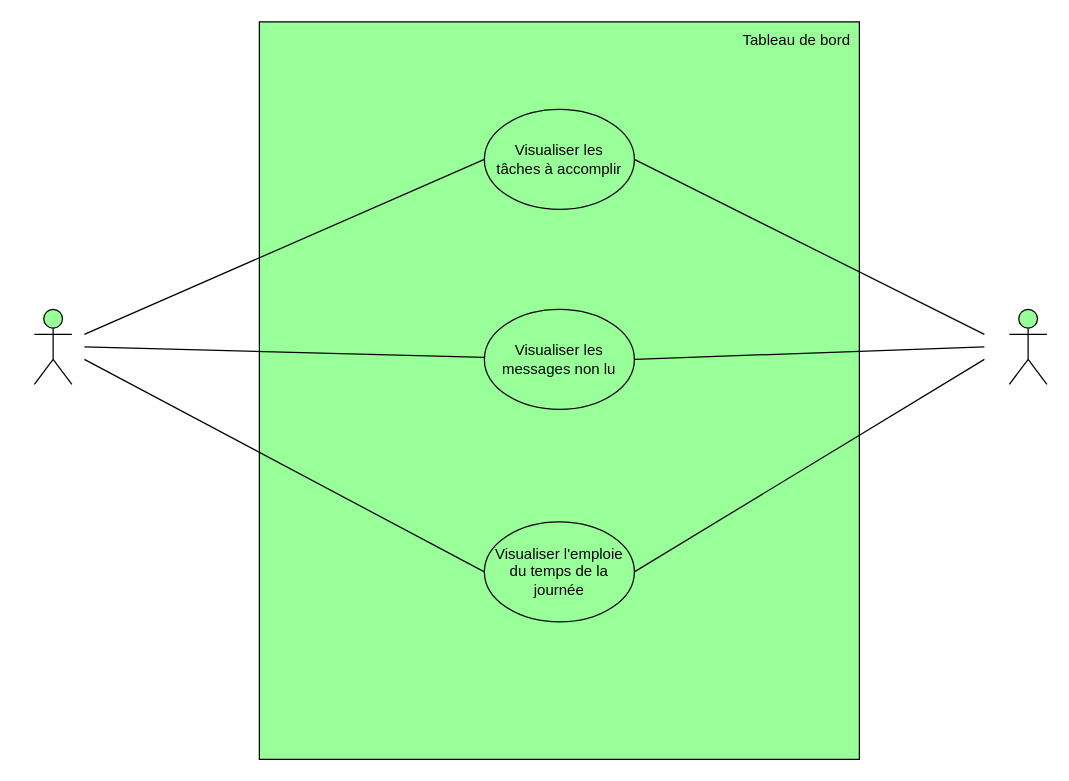
Some shapes in this 1069 by 781 pixel diagram are drawn without their labels. The centre of each missing label's shape, as x and y in pixels:
Bénévole: (x=52, y=346)
Elève: (x=1027, y=346)
